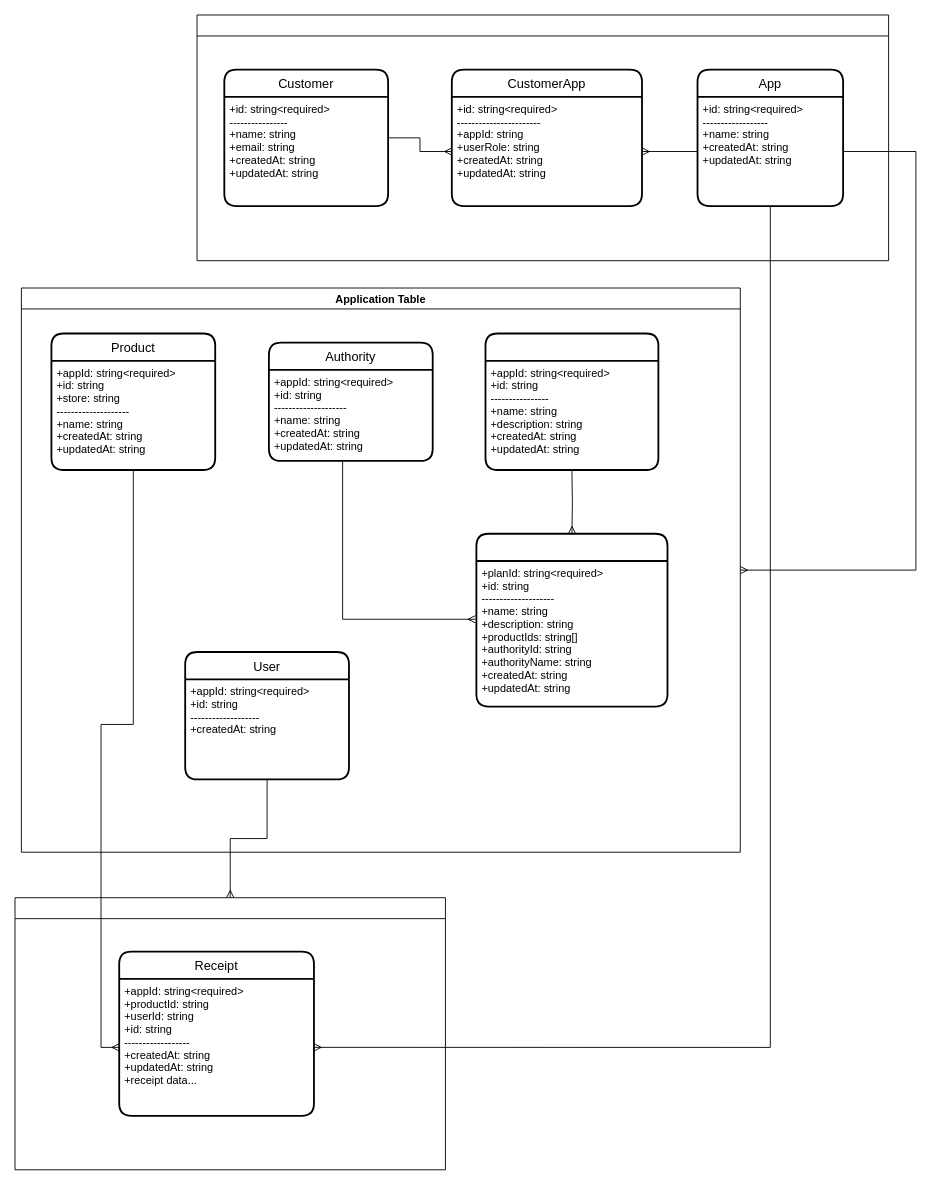
This 931x1185 diagram has some shape labels left out. The box of each missing label's shape, as (x1, y1, x2, y2) in pixels:
Group: (475, 532, 668, 707)
Management Table: (196, 14, 889, 261)
Plan: (484, 332, 659, 470)
Receipt Table: (14, 897, 445, 1170)
